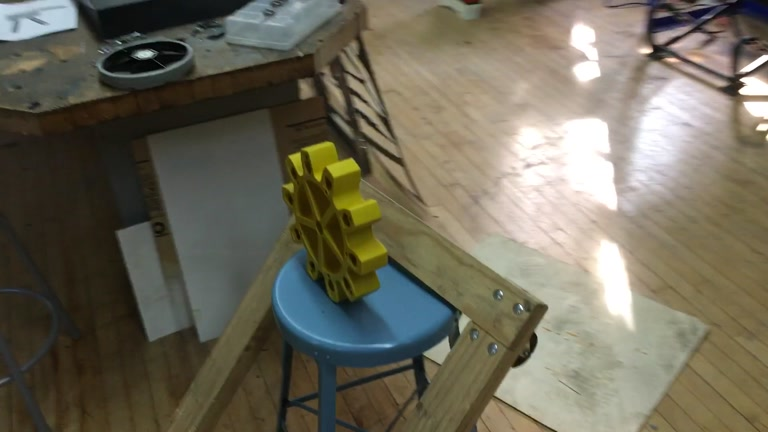gear: (282, 140, 391, 305)
